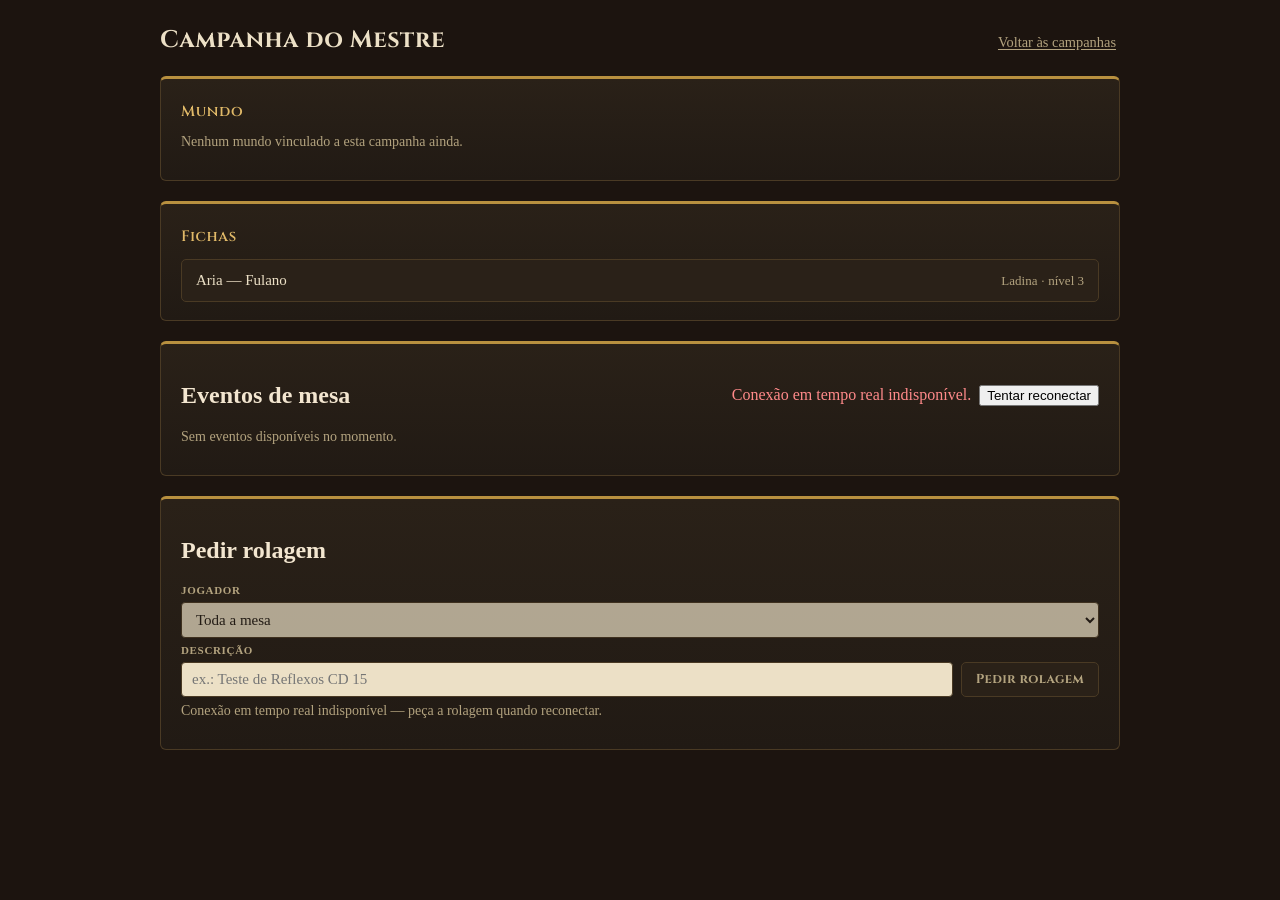
Test: roteamento condicional por papel › mestre abre a ficha de um jogador em modo somente leitura, sem nenhum input editável
The width and height of the screenshot is (1280, 900).
Click the link "Aria — Fulano Ladina · nível 3": (255, 280) x1=181 y1=259 x2=1099 y2=302
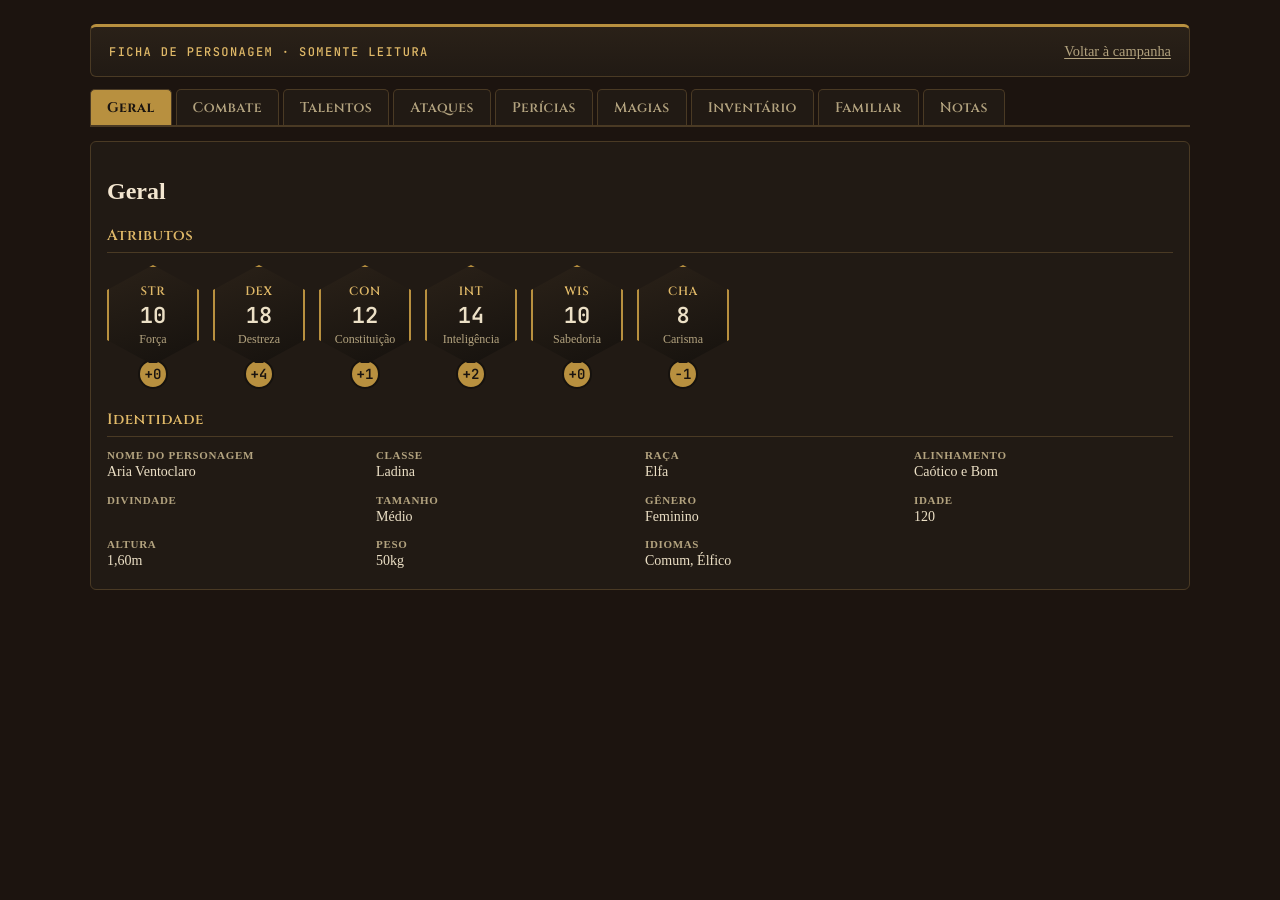
Expected: the heading "Geral" is shown, x1=107 y1=178 x2=166 y2=204
Expected: the text "Aria Ventoclaro" is shown, x1=107 y1=464 x2=196 y2=479
Expected: the field is gone
Click the button "Talentos": (336, 107) x1=283 y1=89 x2=389 y2=125
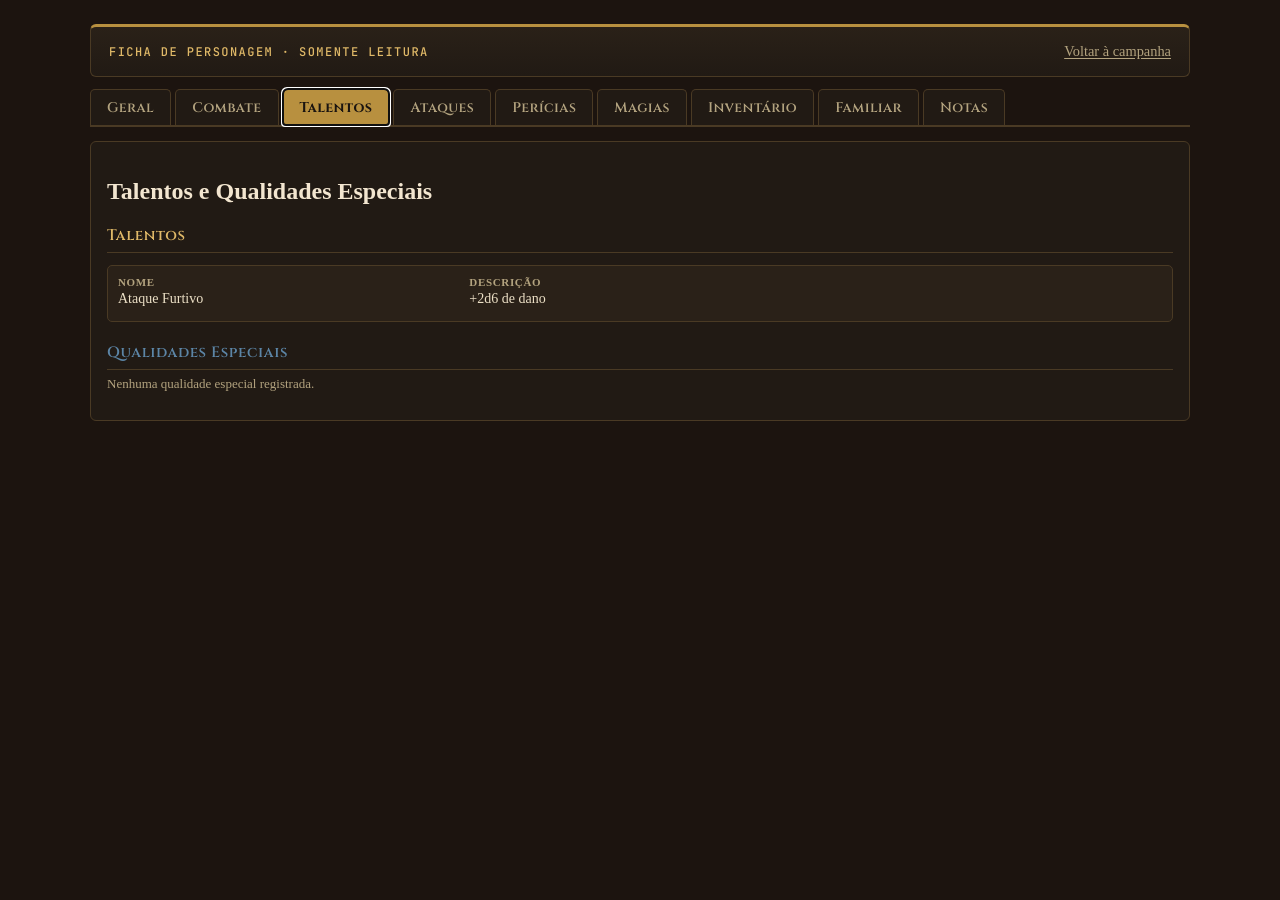
Expected: the text "Ataque Furtivo" is shown, x1=118 y1=291 x2=203 y2=306
